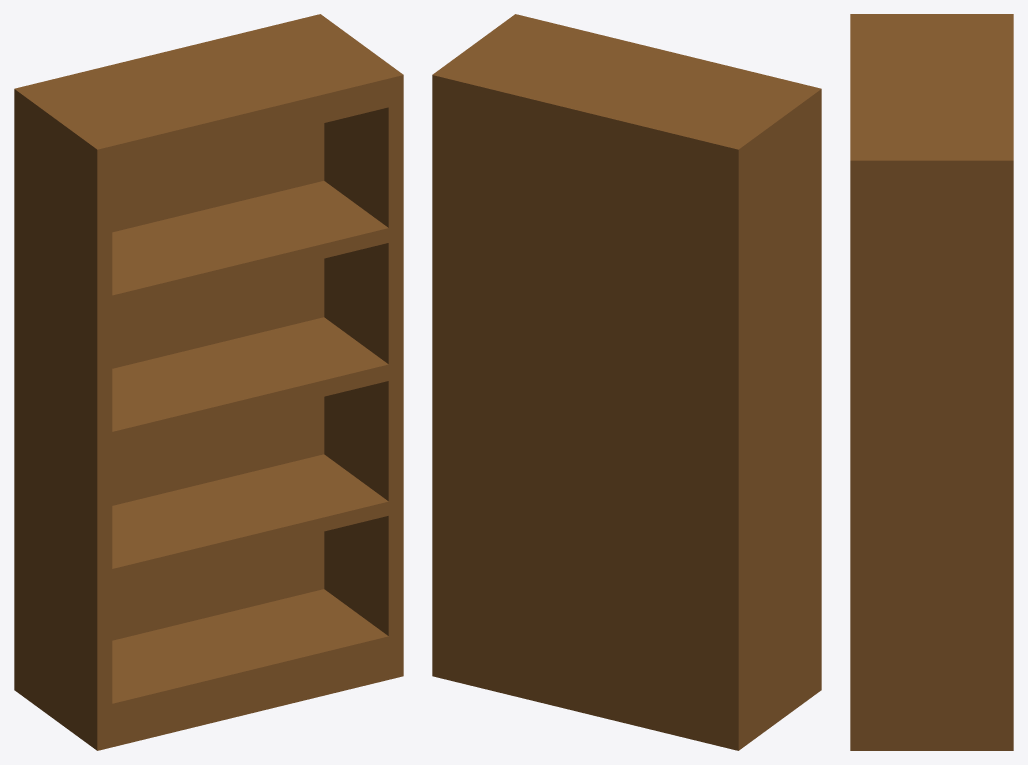
The model's file is shelf_myroom.fbx.
The picture shows the model from 3 angles, left to right: view 1: azimuth 30°, elevation 25°; view 2: azimuth 150°, elevation 25°; view 3: azimuth 270°, elevation 25°; orthographic projection.
Visible parts, largest first — view 1: pCube1; view 2: pCube1; view 3: pCube1.
Part boxes in pixels (left/top/right/bottom): pCube1: left=14, top=14, right=403, bottom=750; pCube1: left=432, top=14, right=821, bottom=750; pCube1: left=850, top=14, right=1013, bottom=750.
Size of the model in its own units: 10.61 by 19.9 by 4.99.
